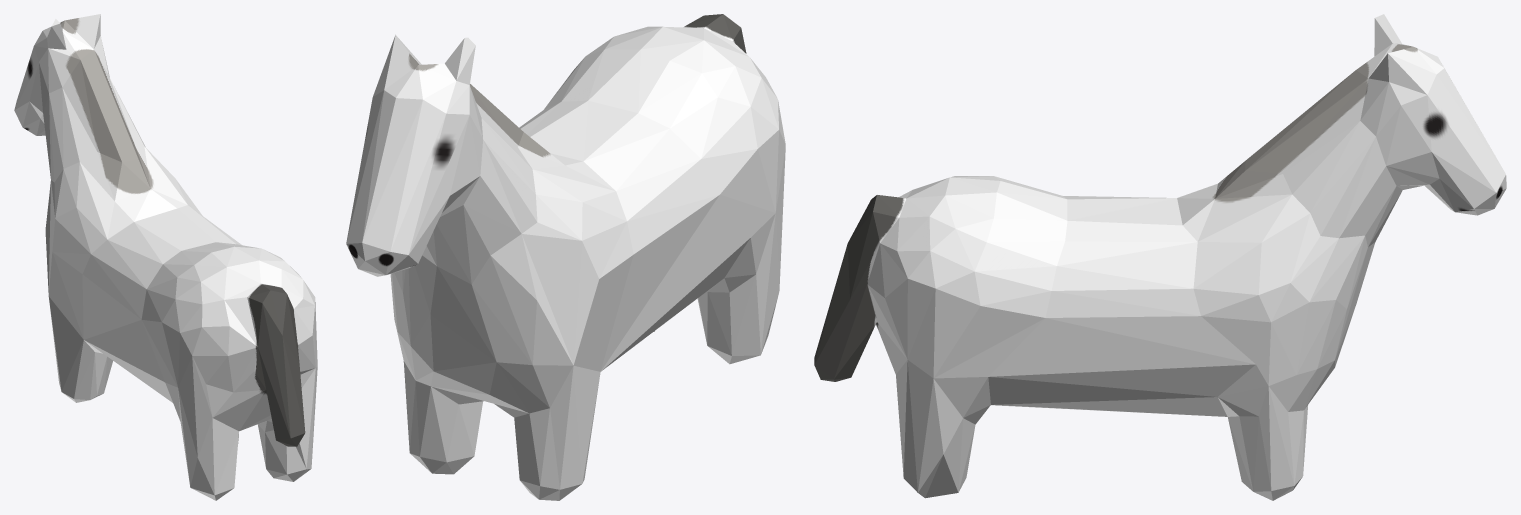
File: animal_horse_stubby_blob.obj
3 renders of one model, left to right at view 1: azimuth 30°, elevation 25°; view 2: azimuth 150°, elevation 25°; view 3: azimuth 270°, elevation 25°, orthographic. The views are drawn at different scales.
Visible parts, largest first — view 1: animal_horse_stubby_blob; view 2: animal_horse_stubby_blob; view 3: animal_horse_stubby_blob.
Boxes of the visible parts, <box> form: animal_horse_stubby_blob: <box>14,14,317,500</box>; animal_horse_stubby_blob: <box>346,14,785,500</box>; animal_horse_stubby_blob: <box>814,14,1506,500</box>.
Size of the model in its own units: 0.5559 by 1.32 by 1.86.
